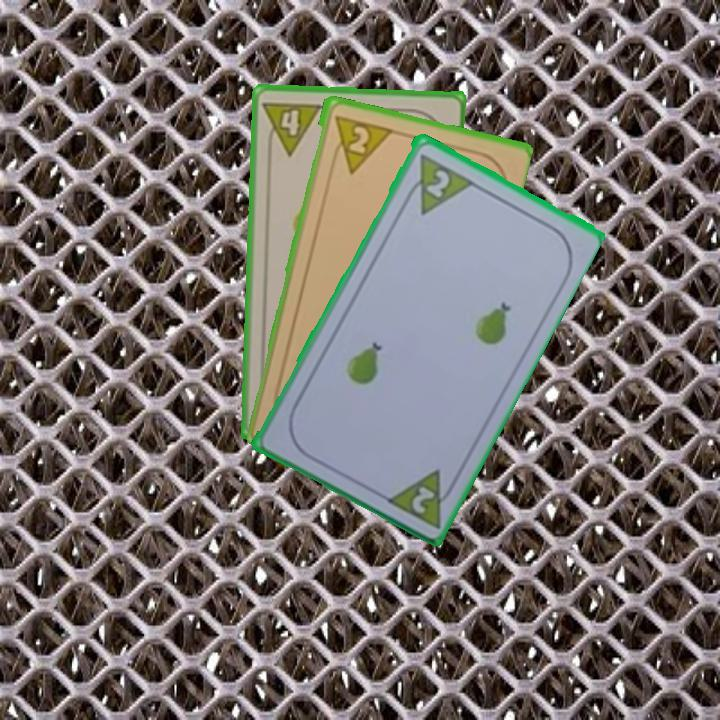2p: (380, 464, 461, 531), (328, 110, 393, 176), (422, 165, 453, 200)
4p: (260, 97, 325, 158)
